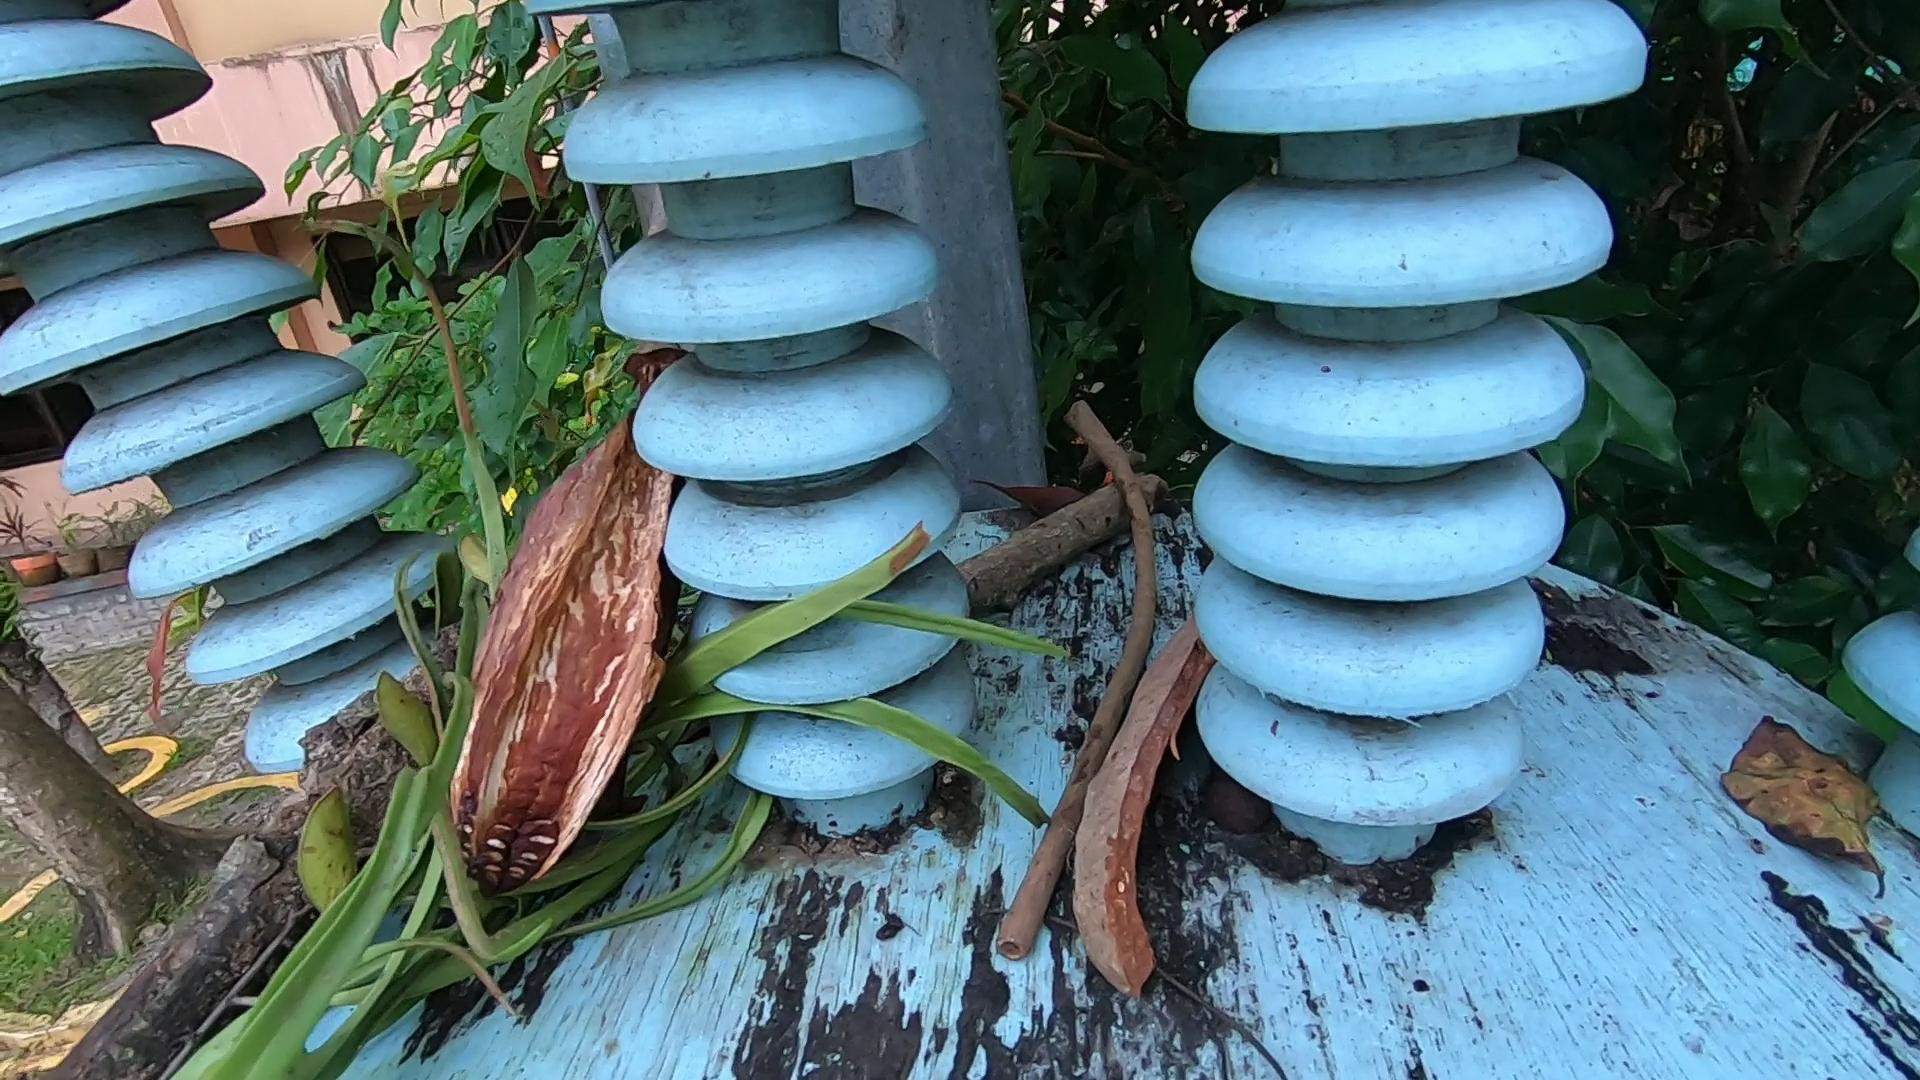branch with leaves: (44, 247, 1054, 1080)
leaf: (1724, 711, 1891, 890)
mahogany fruit: (451, 324, 723, 861), (1076, 520, 1212, 1011)
tree branch: (997, 371, 1160, 965), (956, 469, 1168, 599)
